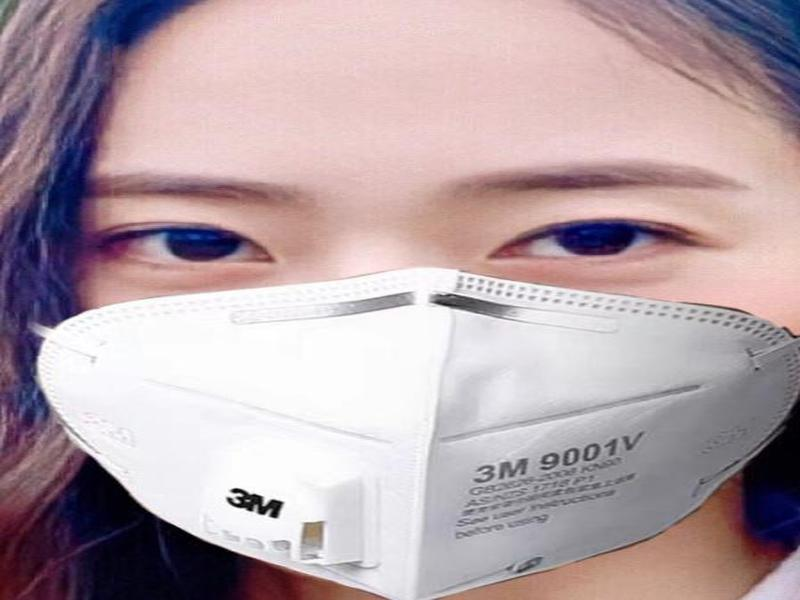with_mask: (29, 4, 797, 600)
